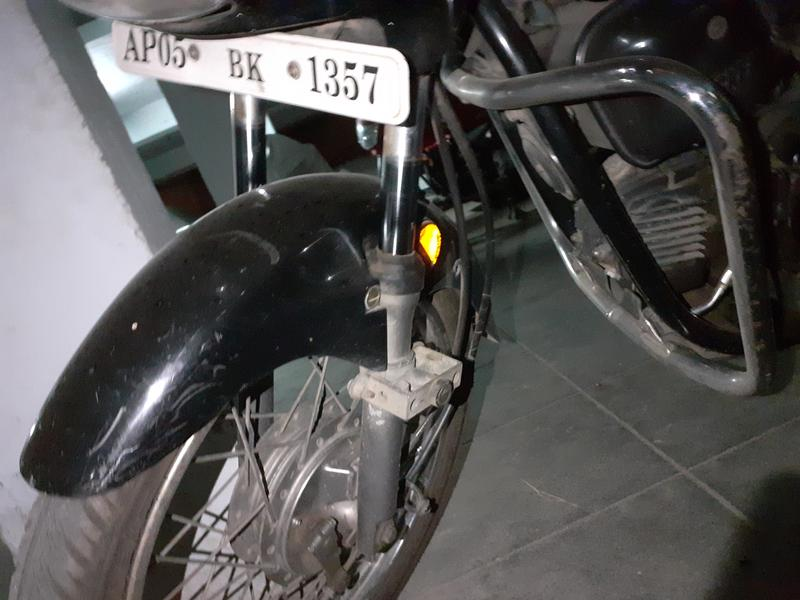numberplate: (80, 14, 412, 126)
